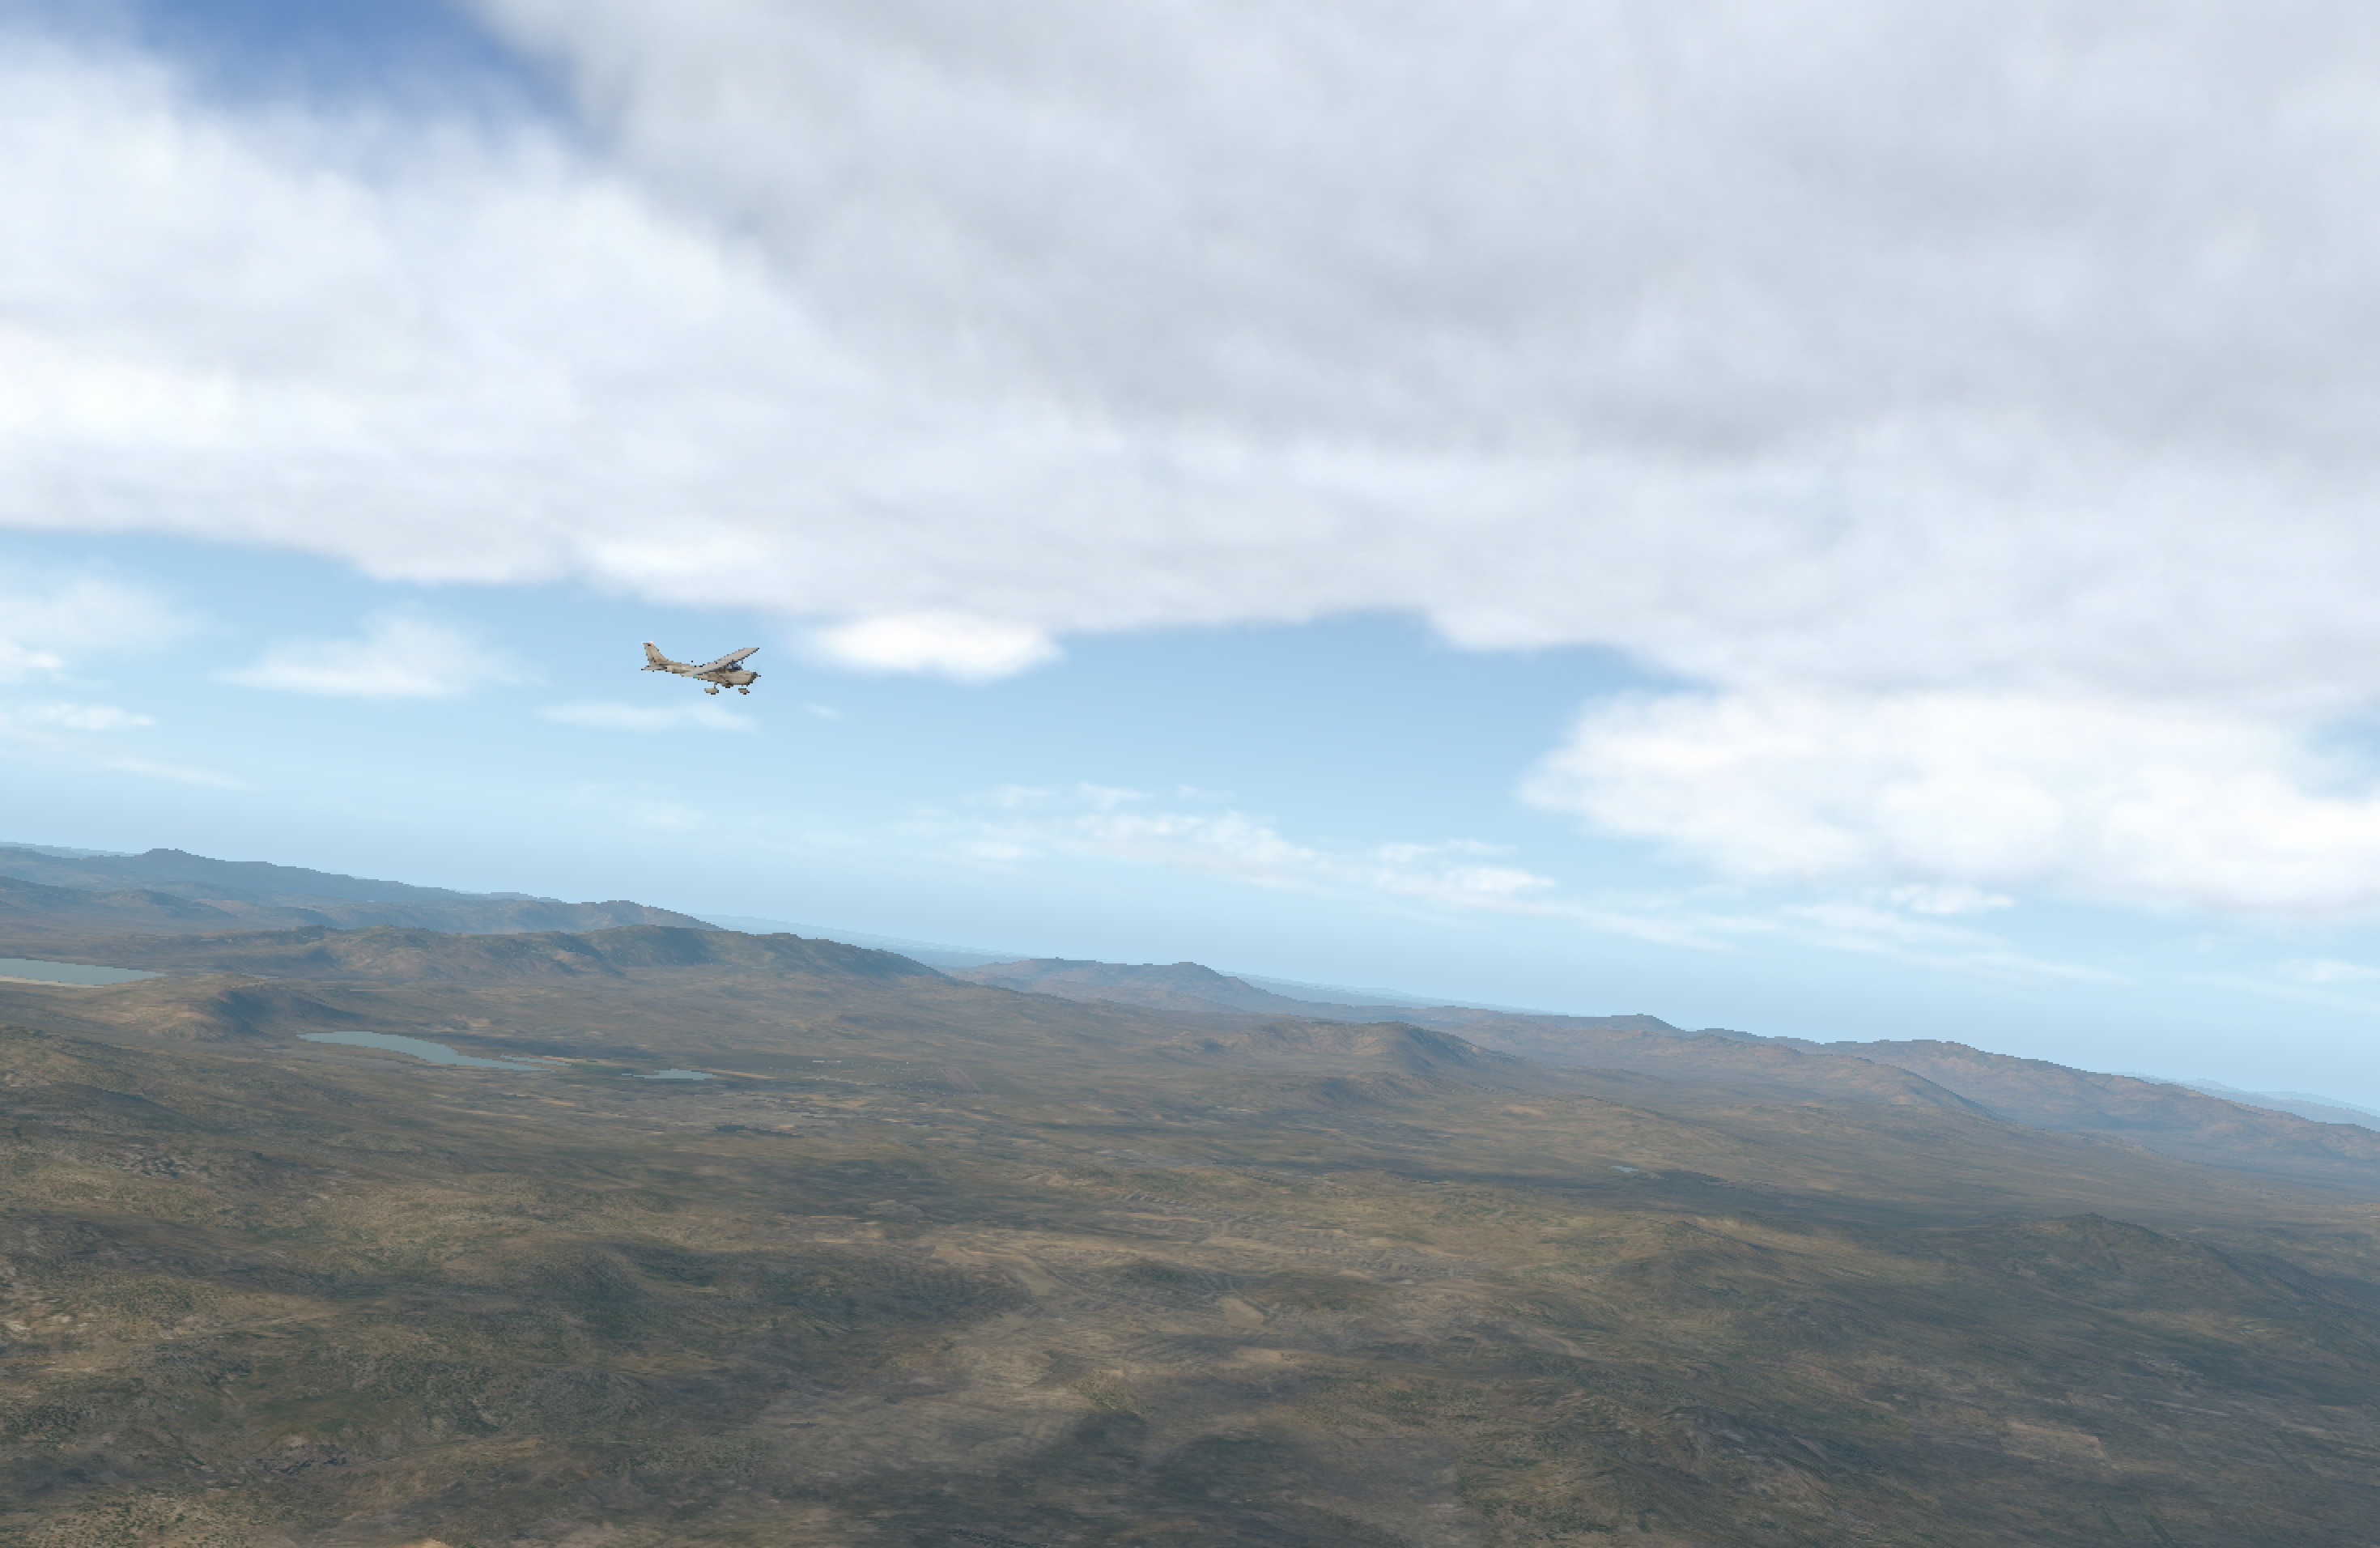aircraft: (666, 651, 784, 694)
